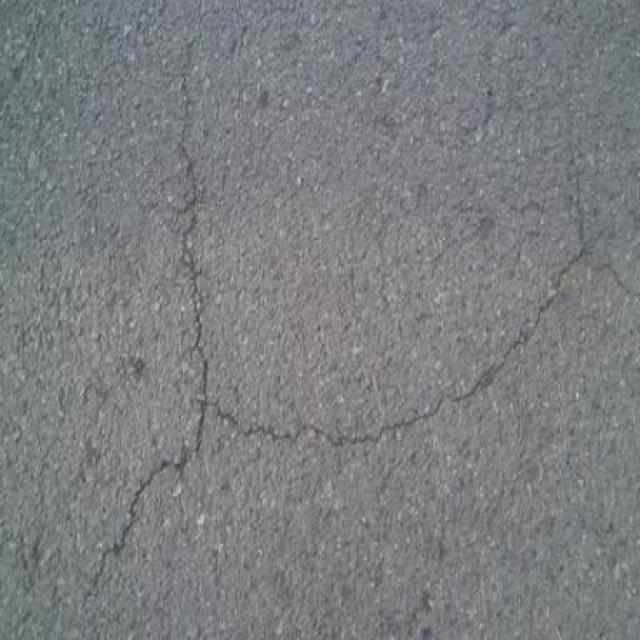Alligator Crack: (78, 34, 640, 618), (16, 433, 63, 596), (0, 29, 40, 113)
